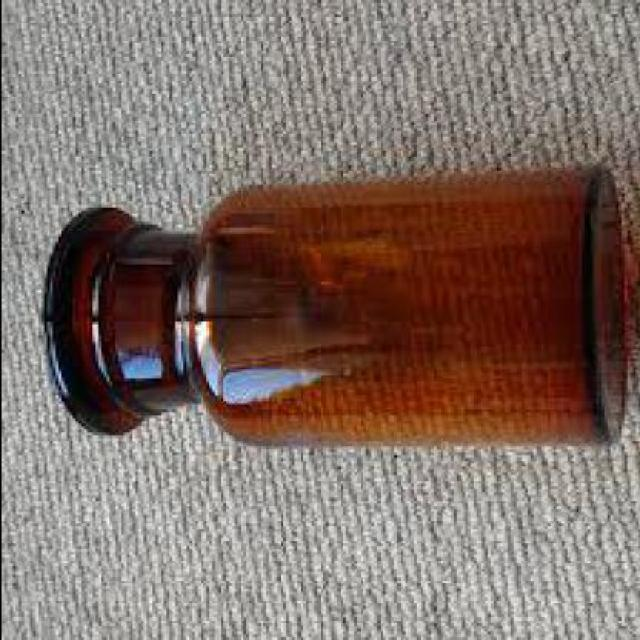glass: (40, 171, 623, 455)
